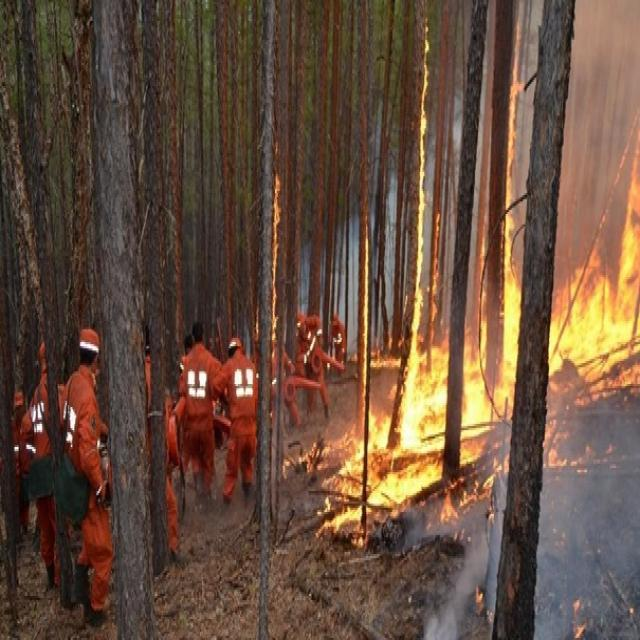Fire: (270, 12, 640, 550), (572, 594, 586, 640)
Smoke: (422, 2, 640, 344), (405, 388, 640, 640), (298, 172, 398, 361)
